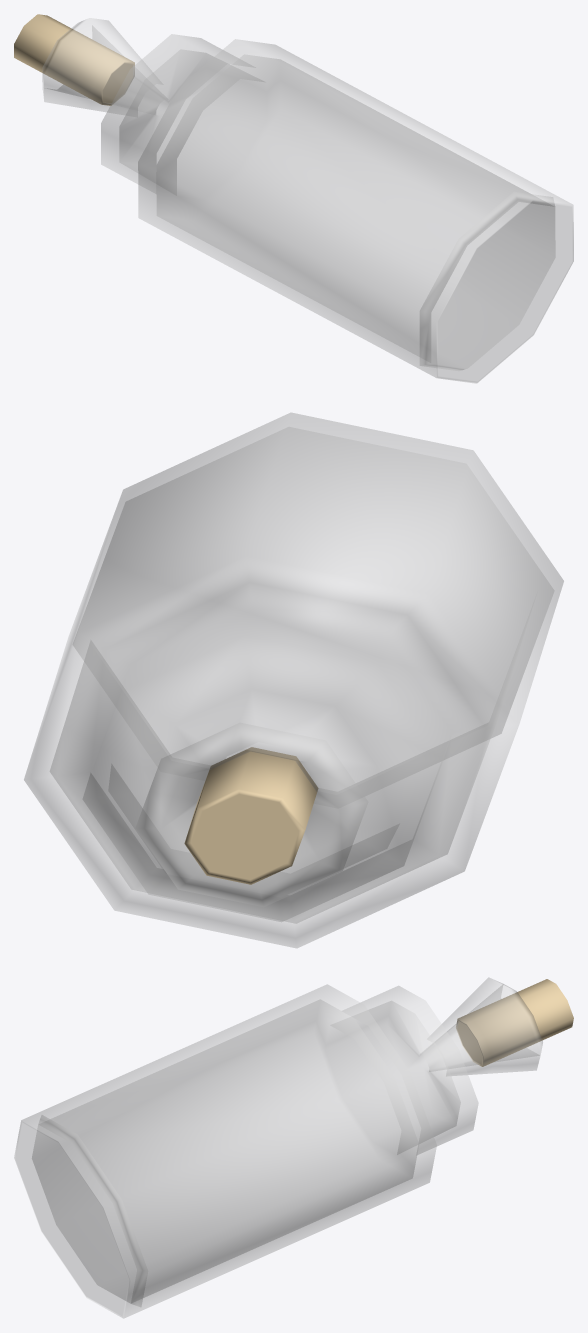
File: bottle.glb
3 renders of one model, top to bottom at view 1: azimuth 30°, elevation 25°; view 2: azimuth 150°, elevation 25°; view 3: azimuth 270°, elevation 25°, orthographic. The views are drawn at different scales.
Visible parts, largest first — view 1: cork; view 2: cork; view 3: cork.
Part boxes in pixels (box(x1,y1,x2,y2)): cork: box(14, 14, 573, 383); cork: box(24, 412, 563, 948); cork: box(14, 977, 573, 1318).
Bounding box in the file's own units: 11.08 × 8.04 × 16.41.
